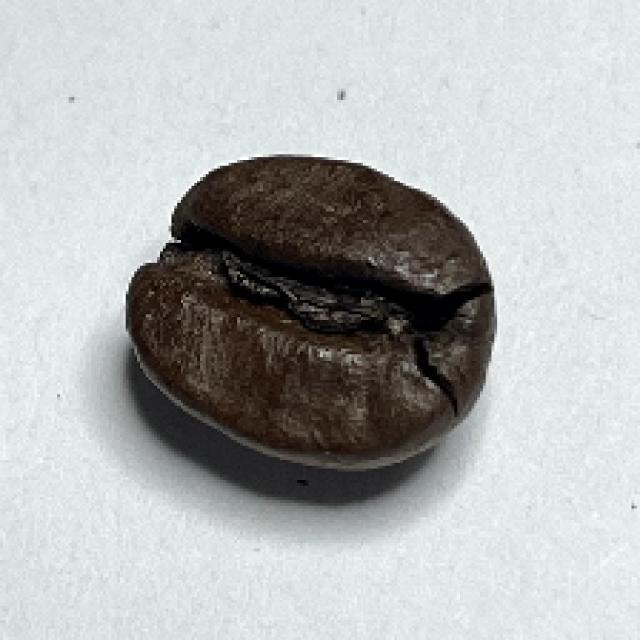bean: (122, 157, 496, 471)
